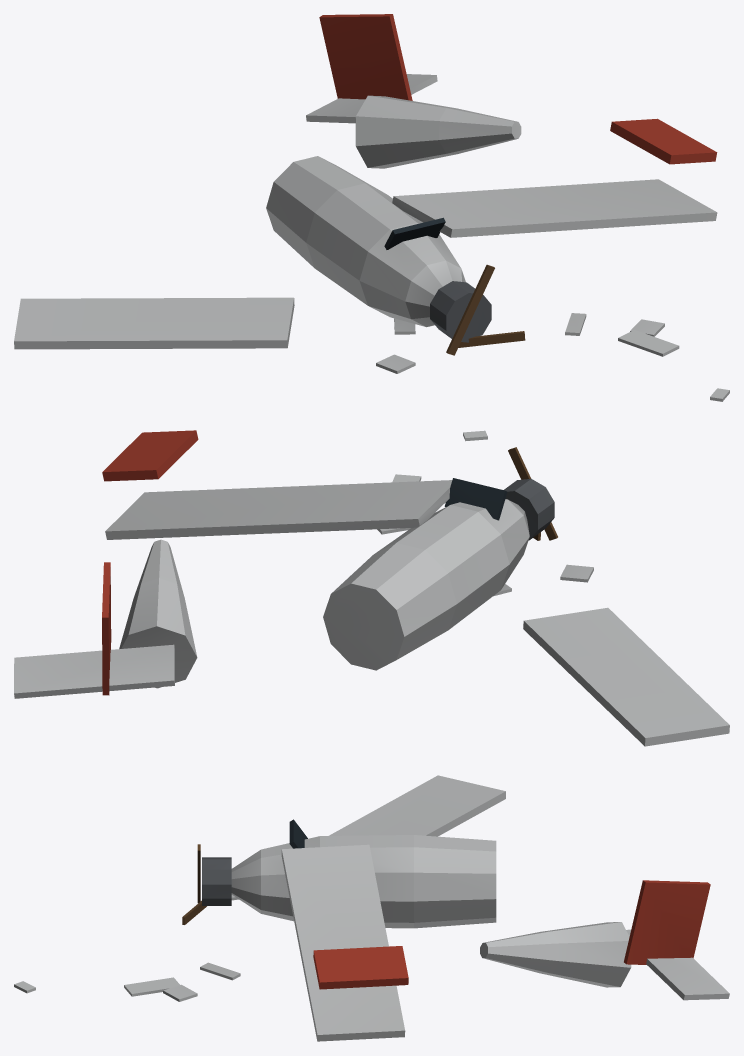
Rendered from PlaneWreck.fbx.
The picture shows the model from 3 angles, top to bottom: view 1: azimuth 30°, elevation 25°; view 2: azimuth 150°, elevation 25°; view 3: azimuth 270°, elevation 25°; orthographic projection. The views are drawn at different scales.
Visible parts, largest first — view 1: PlaneWreck; view 2: PlaneWreck; view 3: PlaneWreck.
Part boxes in pixels (bbox=[...]): PlaneWreck: bbox=[14, 14, 729, 401]; PlaneWreck: bbox=[14, 430, 729, 746]; PlaneWreck: bbox=[14, 775, 729, 1041].
Bounding box in the file's own units: 11.27 × 2.22 × 12.16.
